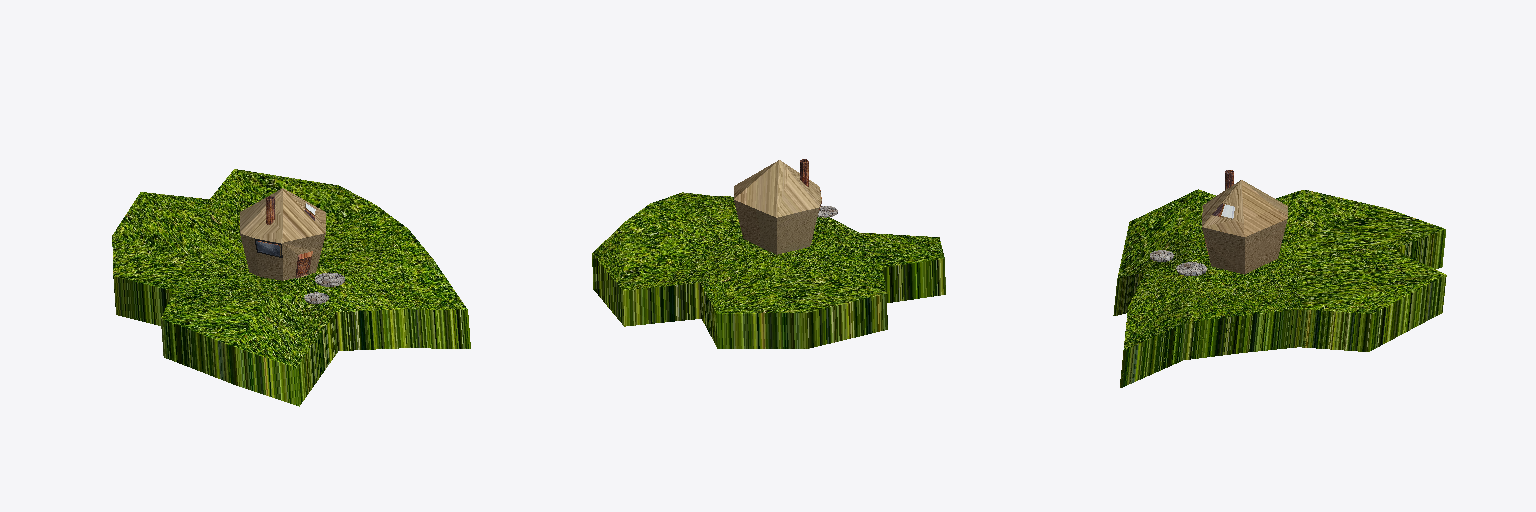
The picture shows the model from 3 angles: view 1: azimuth 30°, elevation 25°; view 2: azimuth 150°, elevation 25°; view 3: azimuth 270°, elevation 25°; orthographic projection.
Visible parts, largest first — view 1: Plane001, casa; view 2: Plane001, casa; view 3: Plane001, casa.
Part boxes in pixels (bbox=[...]): Plane001: bbox=[112, 169, 470, 406]; casa: bbox=[240, 188, 325, 280]; Plane001: bbox=[592, 192, 945, 348]; casa: bbox=[734, 160, 821, 254]; Plane001: bbox=[1113, 189, 1446, 387]; casa: bbox=[1202, 180, 1287, 274].
Size of the model in its own units: 204 by 115 by 217.
Materials: 7 (6 with a texture image).